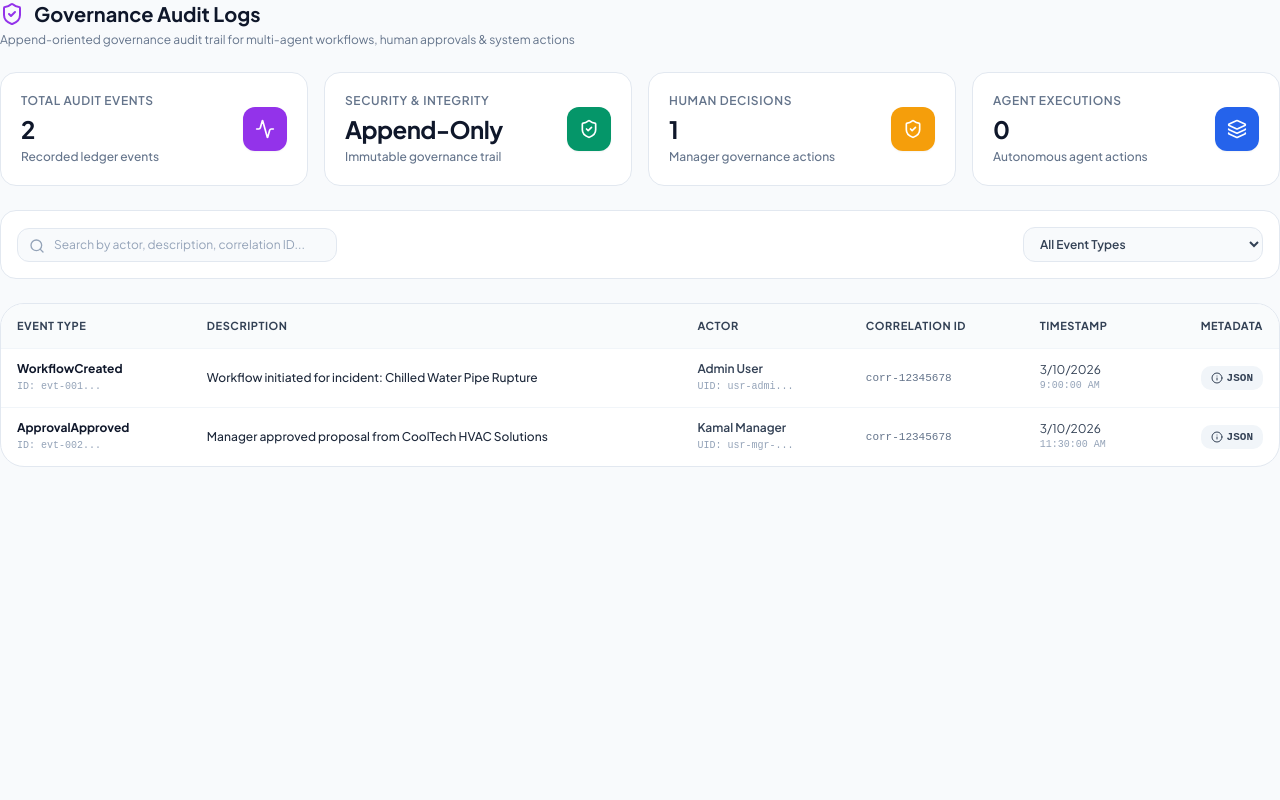
Test: AuditLogsPage › opens and closes metadata JSON viewer modal
Check: the heading "Governance Audit Logs" is shown, box [0, 1, 260, 26]
What coordinates should you click on to do the following:
click the button "JSON" in the row of "WorkflowCreated"
I would click on:
 (1232, 378)
Its box is [1201, 366, 1263, 390].
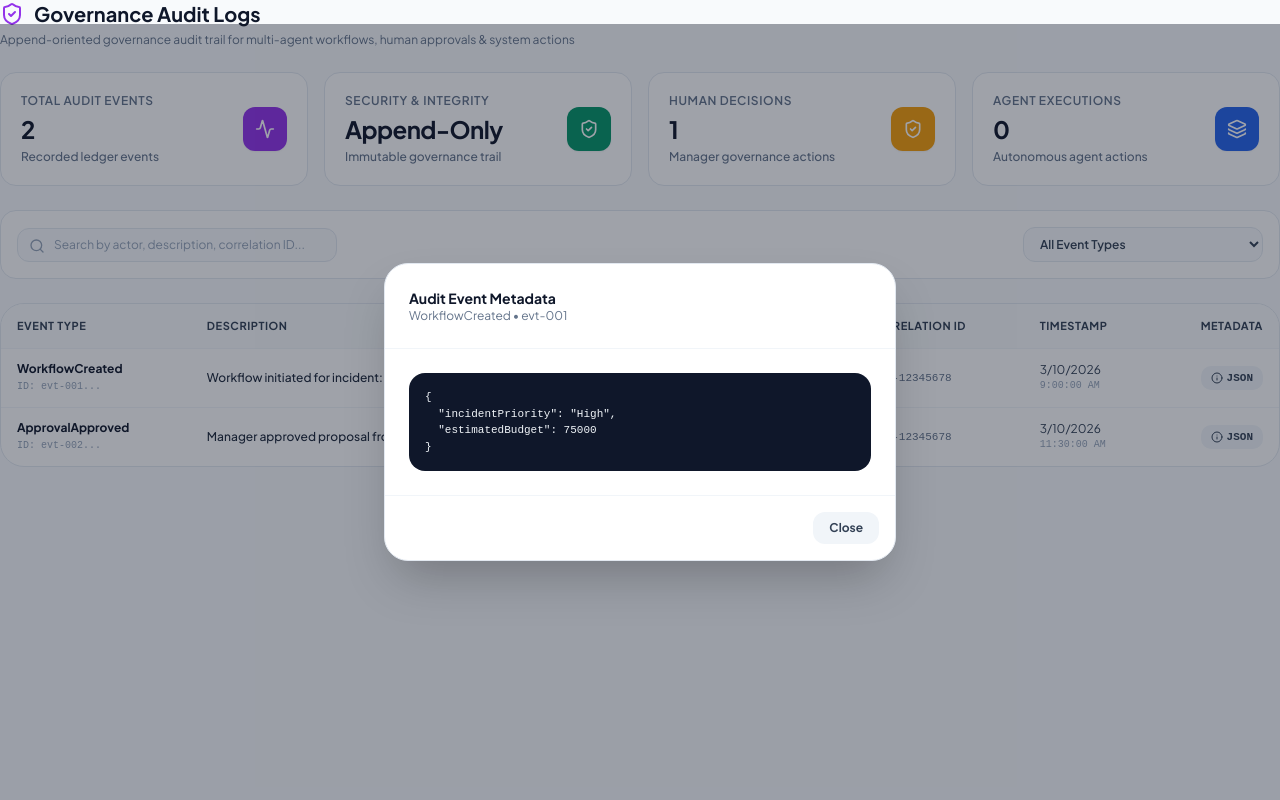
Check: the heading "Audit Event Metadata" is shown, box [409, 288, 568, 308]
Check: the text "{ \"incidentPriority\": \"High\", \"estimatedBudget\": 75000 }" is shown, box [409, 373, 871, 471]
What coordinates should you click on to do the following:
click the button "Close"
I would click on:
 (846, 528)
Its box is [813, 512, 879, 544].
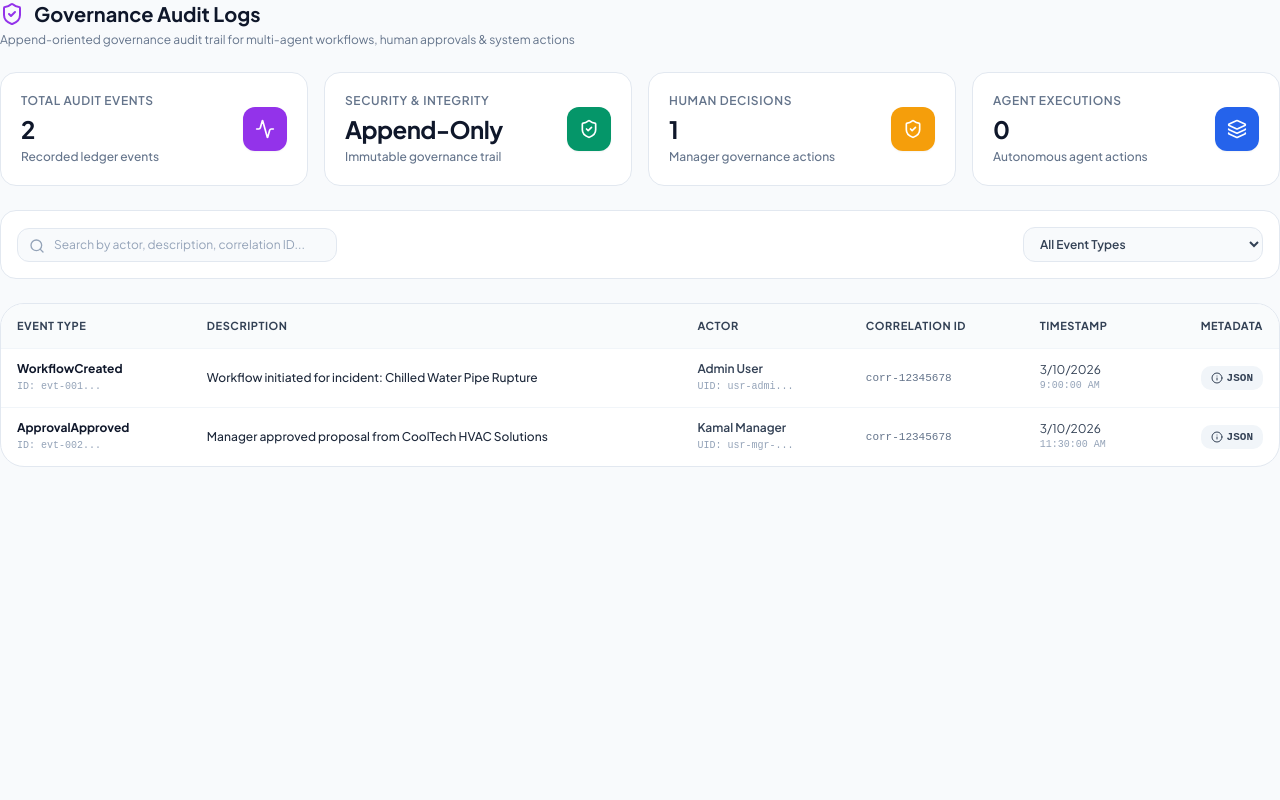
Check: the heading "Audit Event Metadata" is gone
